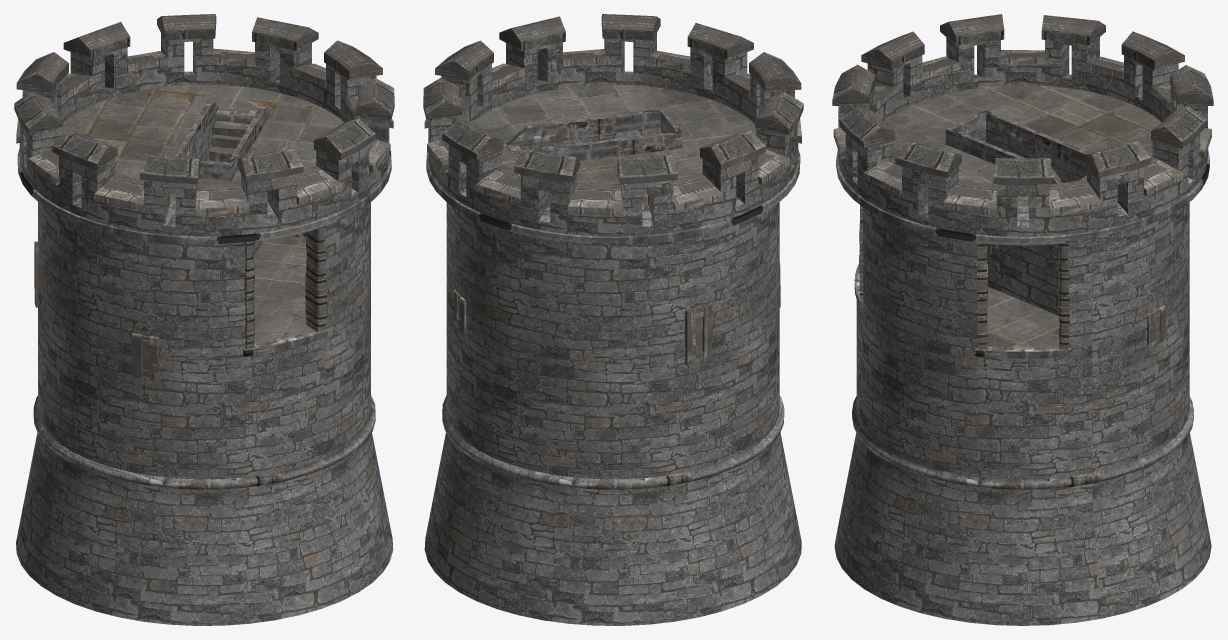
The model's file is MC_Castle_Tower_A_10m.fbx.
3 renders of one model, left to right at view 1: azimuth 30°, elevation 25°; view 2: azimuth 150°, elevation 25°; view 3: azimuth 270°, elevation 25°, orthographic.
Visible parts, largest first — view 1: MC_Castle_Tower_A_10m_LOD0; view 2: MC_Castle_Tower_A_10m_LOD0; view 3: MC_Castle_Tower_A_10m_LOD0.
Boxes of the visible parts, left/top/right/bottom form: MC_Castle_Tower_A_10m_LOD0: left=14, top=14, right=394, bottom=625; MC_Castle_Tower_A_10m_LOD0: left=423, top=14, right=803, bottom=625; MC_Castle_Tower_A_10m_LOD0: left=832, top=14, right=1213, bottom=625.
Size of what is drawn, in the model's own units: 912 by 1218 by 916.
